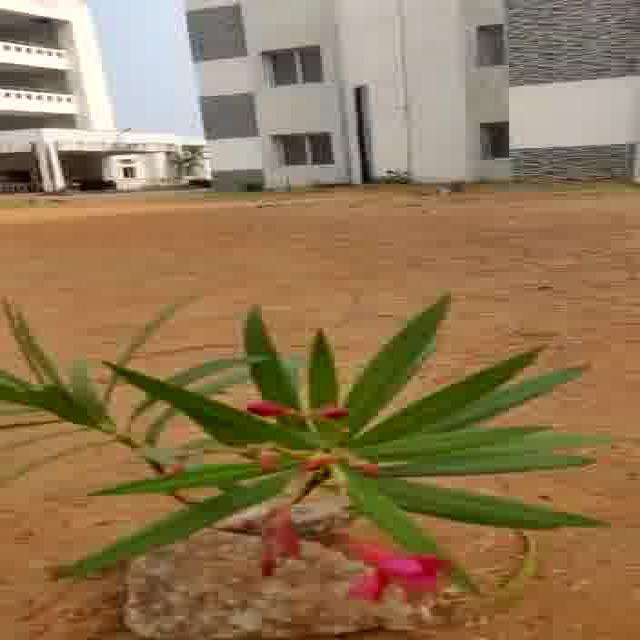Oleander: (0, 302, 619, 586)
